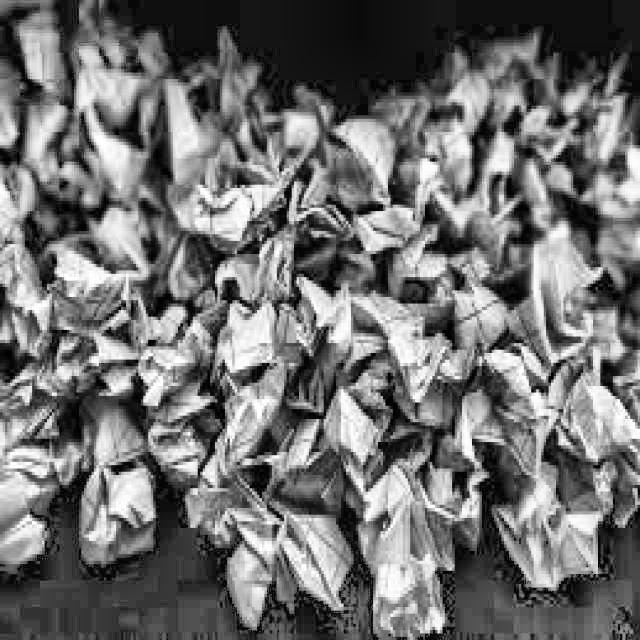Paper: (289, 268, 381, 413), (551, 370, 638, 522), (492, 469, 598, 588), (346, 439, 452, 558), (40, 247, 129, 383), (178, 152, 277, 271), (156, 79, 242, 208), (462, 347, 554, 466), (368, 495, 445, 630), (516, 237, 598, 363), (569, 73, 638, 218), (77, 69, 161, 188), (381, 83, 472, 192), (0, 224, 64, 376), (213, 336, 287, 462), (215, 247, 289, 373), (275, 498, 354, 614), (319, 102, 398, 218), (87, 188, 181, 284), (452, 145, 529, 257), (457, 37, 544, 136), (383, 317, 465, 422), (134, 307, 205, 426), (322, 370, 391, 489), (0, 356, 74, 465), (213, 498, 275, 627), (264, 409, 341, 511), (191, 436, 265, 531), (0, 462, 64, 571), (386, 228, 452, 333), (267, 172, 343, 261), (84, 462, 151, 557), (72, 380, 143, 469), (250, 89, 326, 168), (450, 264, 512, 350), (509, 142, 576, 221), (156, 396, 215, 482)
